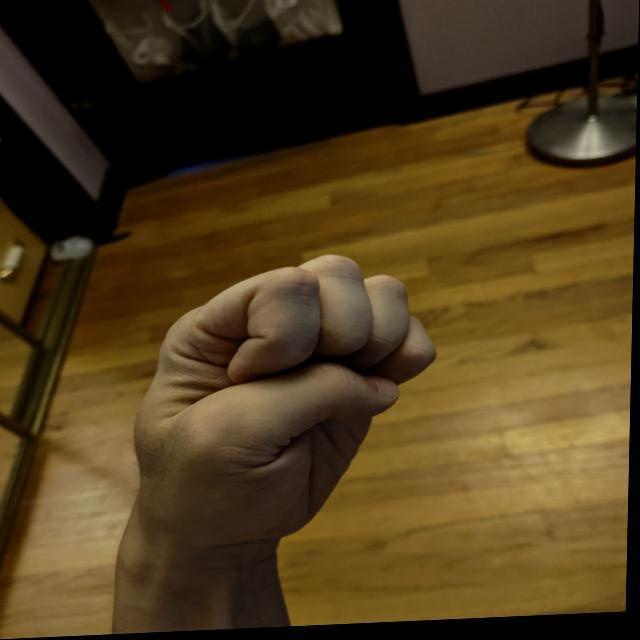E: (123, 249, 450, 559)
